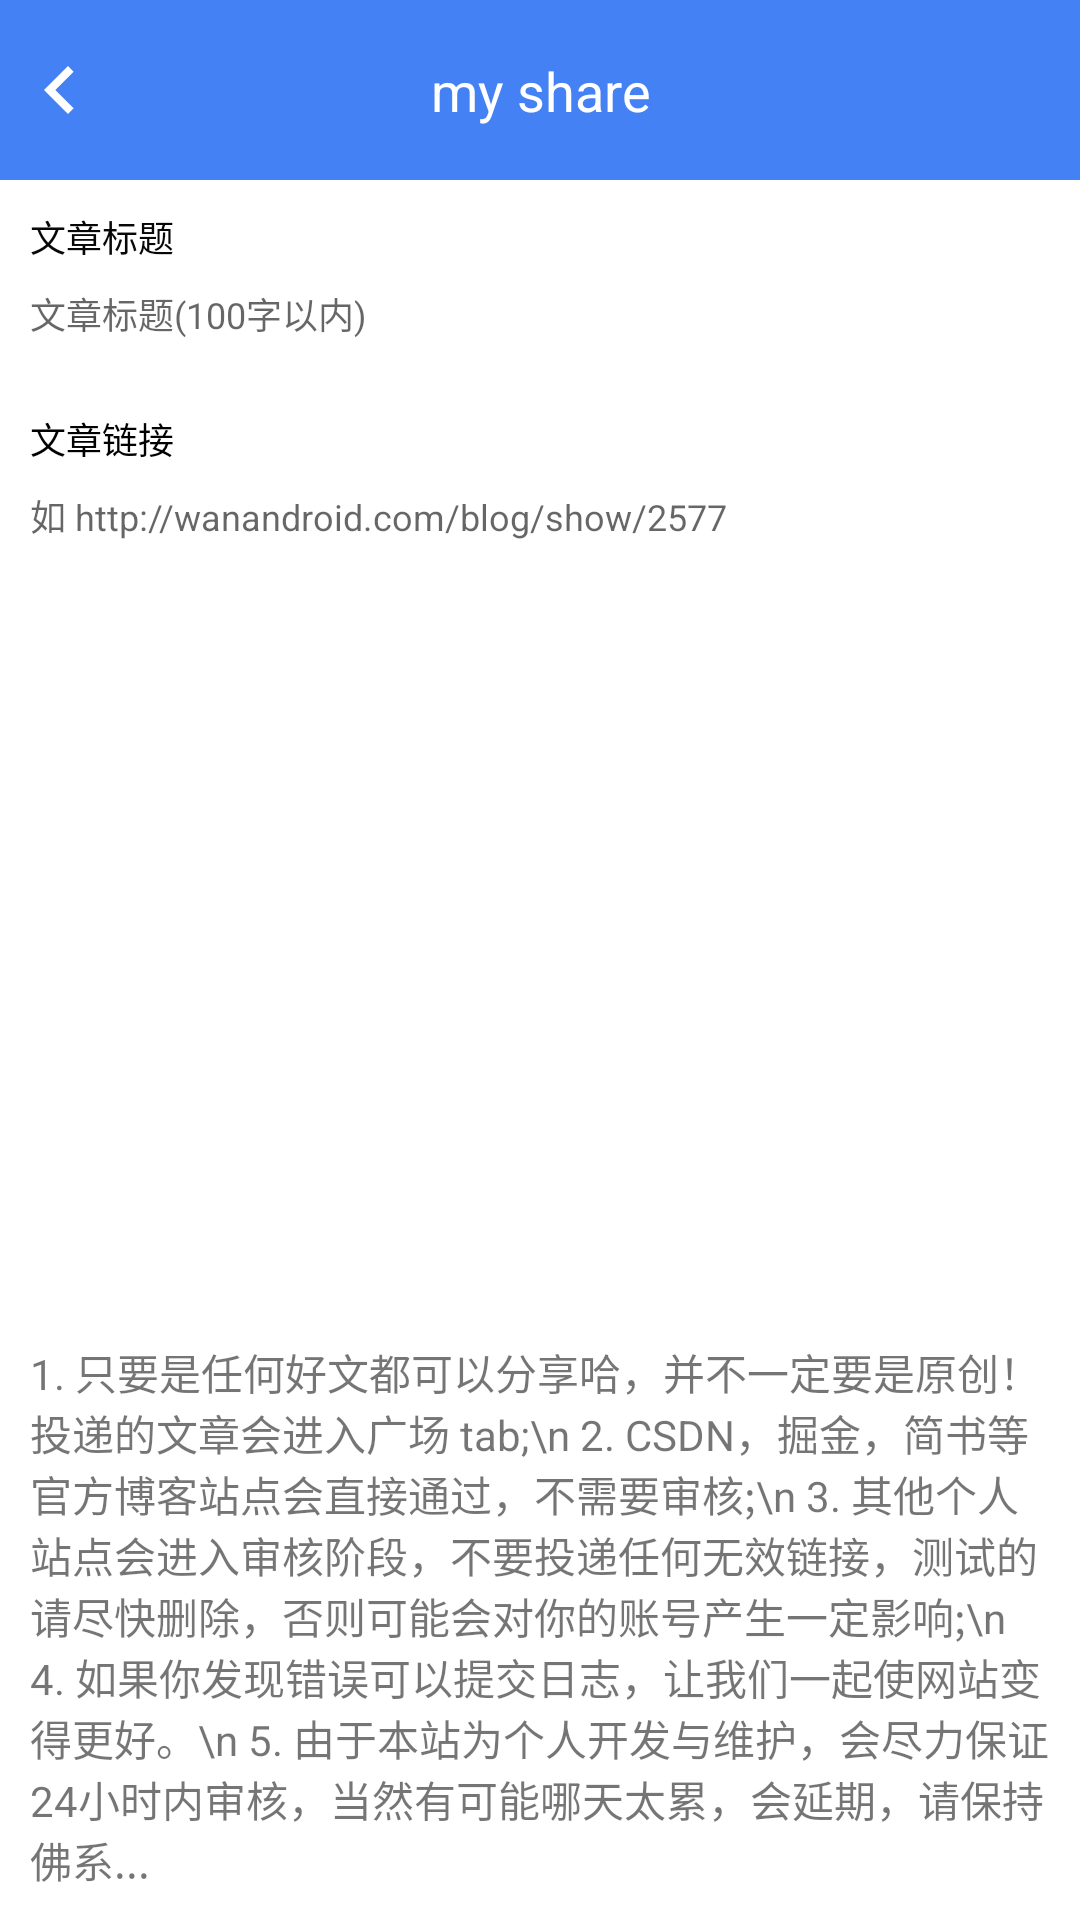

Named icons in this screenshot (1080×1920) and their bounding boxes, (x1, y1, x2, y2):
chevron left: (44, 66, 74, 114)
